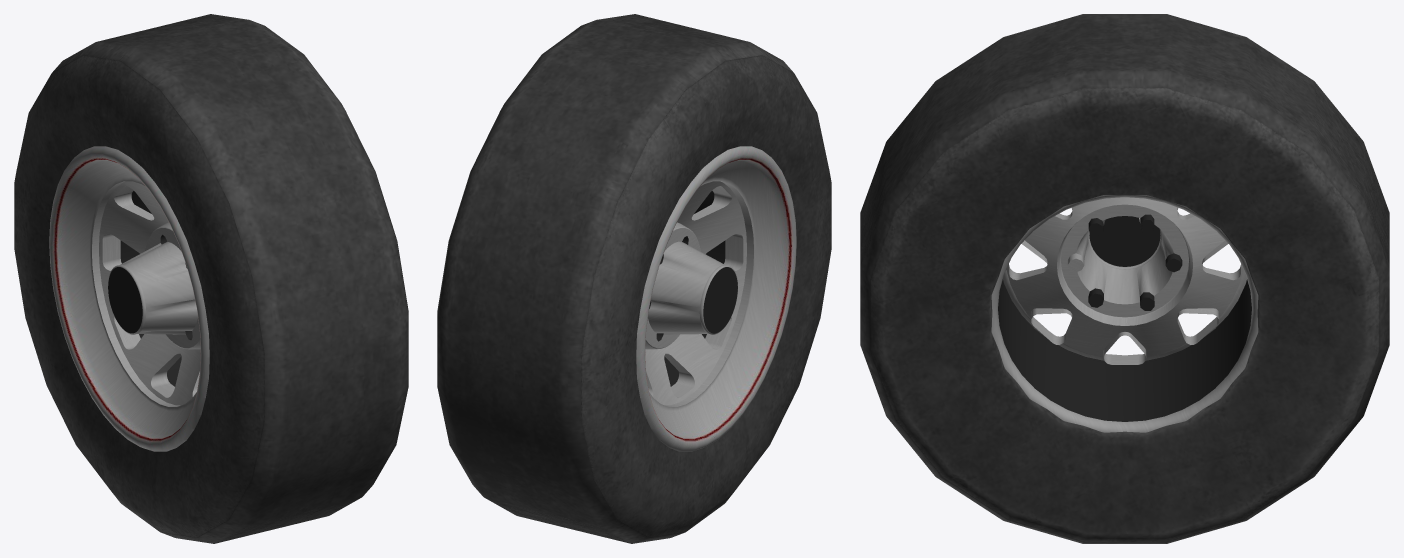
The model's file is Front_Right_Wheel.fbx.
3 views of the same model, side by side, from view 1: azimuth 30°, elevation 25°; view 2: azimuth 150°, elevation 25°; view 3: azimuth 270°, elevation 25° (orthographic). The views are drawn at different scales.
Parts seen in each view (by area): view 1: defaultMaterial.105; view 2: defaultMaterial.105; view 3: defaultMaterial.105.
Part boxes in pixels (left/top/right/bottom): defaultMaterial.105: left=14, top=14, right=408, bottom=543; defaultMaterial.105: left=437, top=14, right=831, bottom=543; defaultMaterial.105: left=860, top=14, right=1389, bottom=543.
Bounding box in the file's own units: 10.82 × 28.59 × 29.03.
